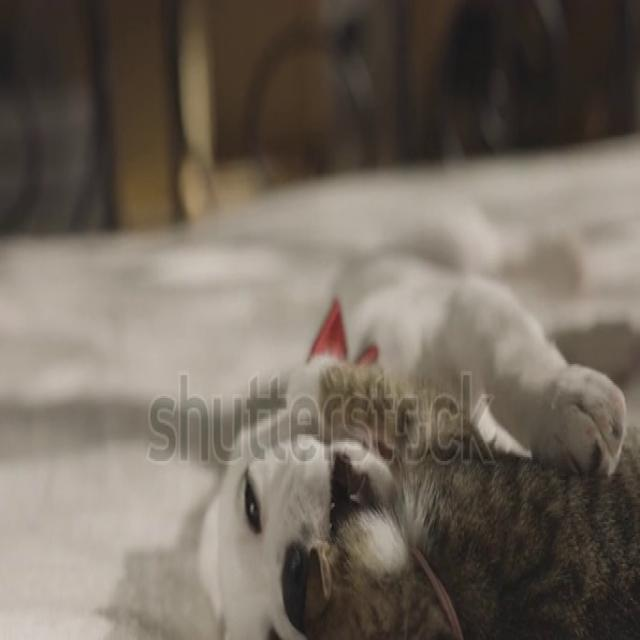normal_animals: (144, 242, 639, 640)
